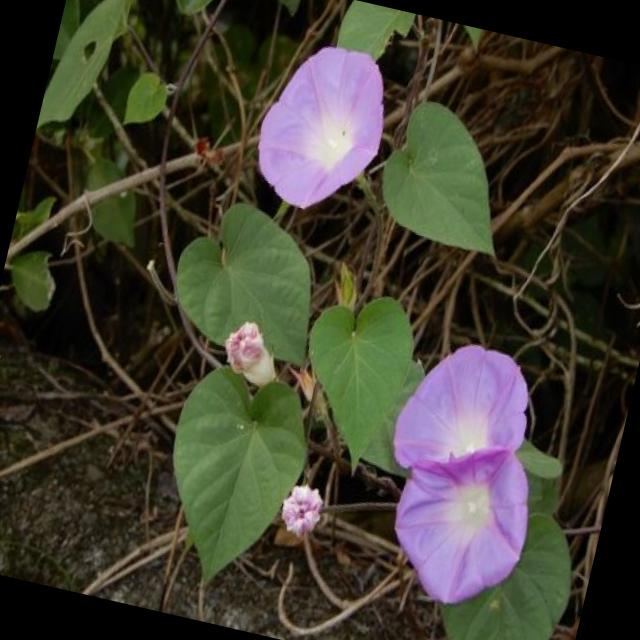ipomoea: (352, 324, 570, 624), (240, 28, 403, 228), (212, 312, 290, 396), (270, 476, 330, 546)
